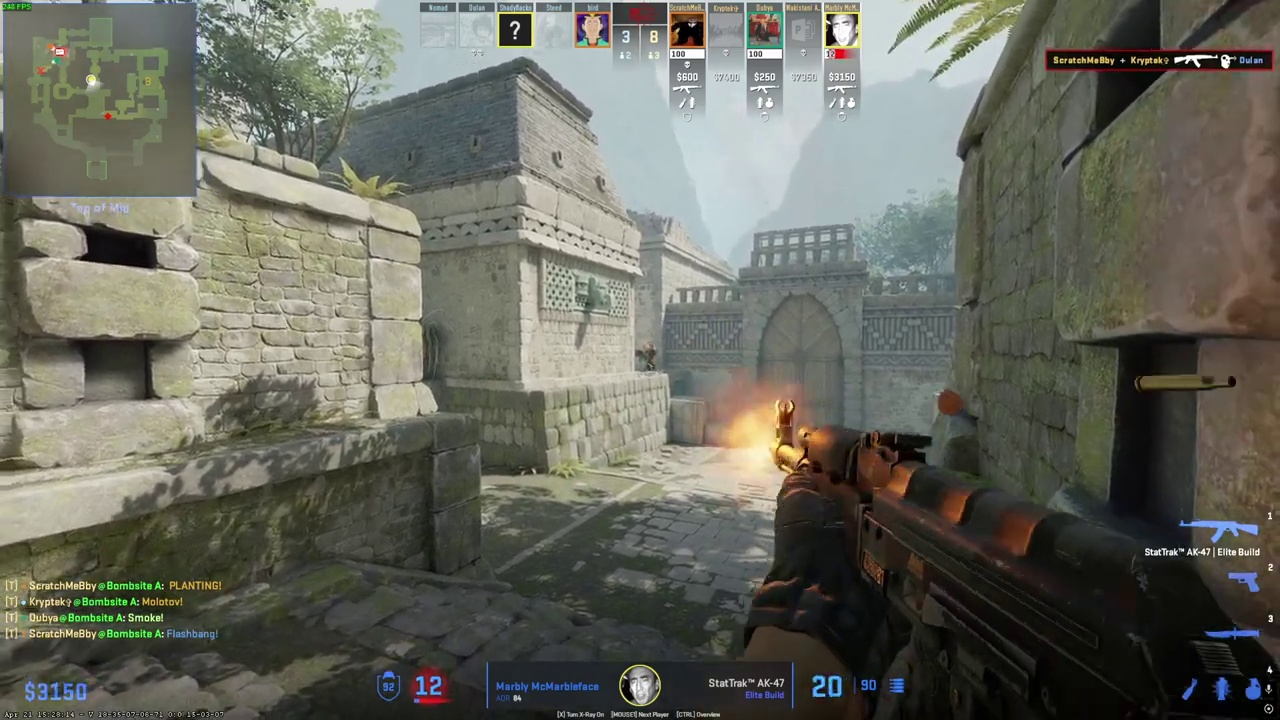CT: (643, 346, 656, 371)
